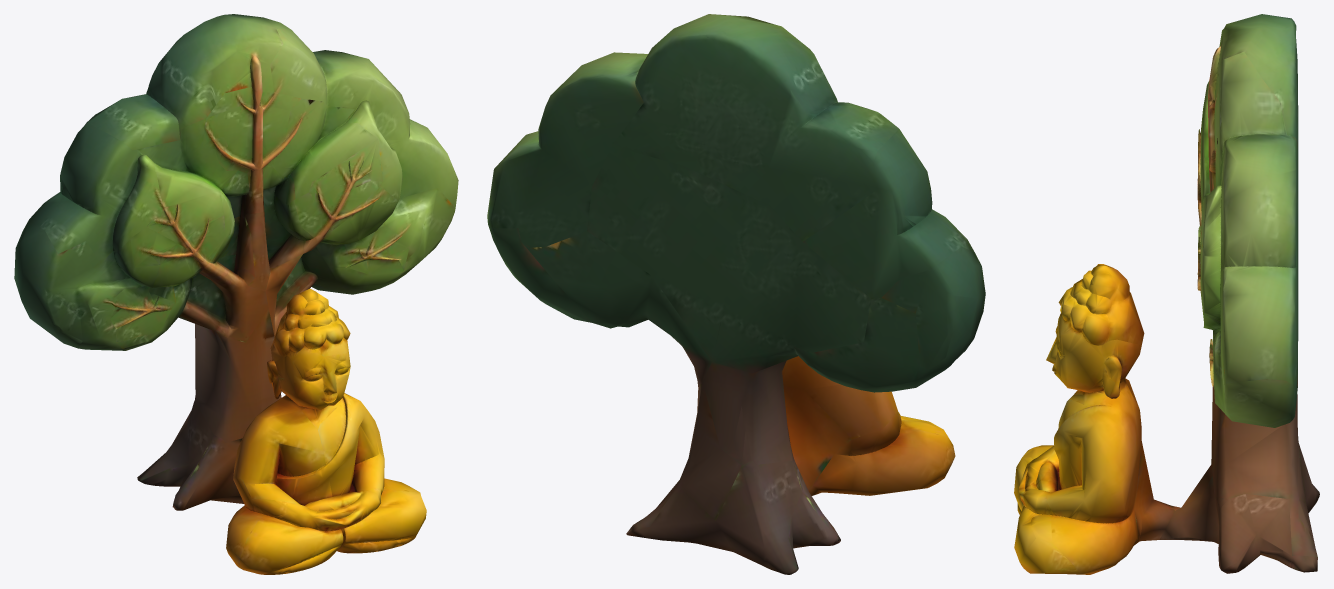
The model's file is buddha_bodhi_pbr.glb.
3 views of the same model, side by side, from view 1: azimuth 30°, elevation 25°; view 2: azimuth 150°, elevation 25°; view 3: azimuth 270°, elevation 25° (orthographic). The views are drawn at different scales.
Parts seen in each view (by area): view 1: model; view 2: model; view 3: model.
Part boxes in pixels (x1,y1,x2,y2): model: (14,14,458,574); model: (487,14,985,574); model: (1014,14,1319,574).
Bounding box in the file's own units: 1.69 × 1.74 × 0.9441.
1 material, 1 textured.
